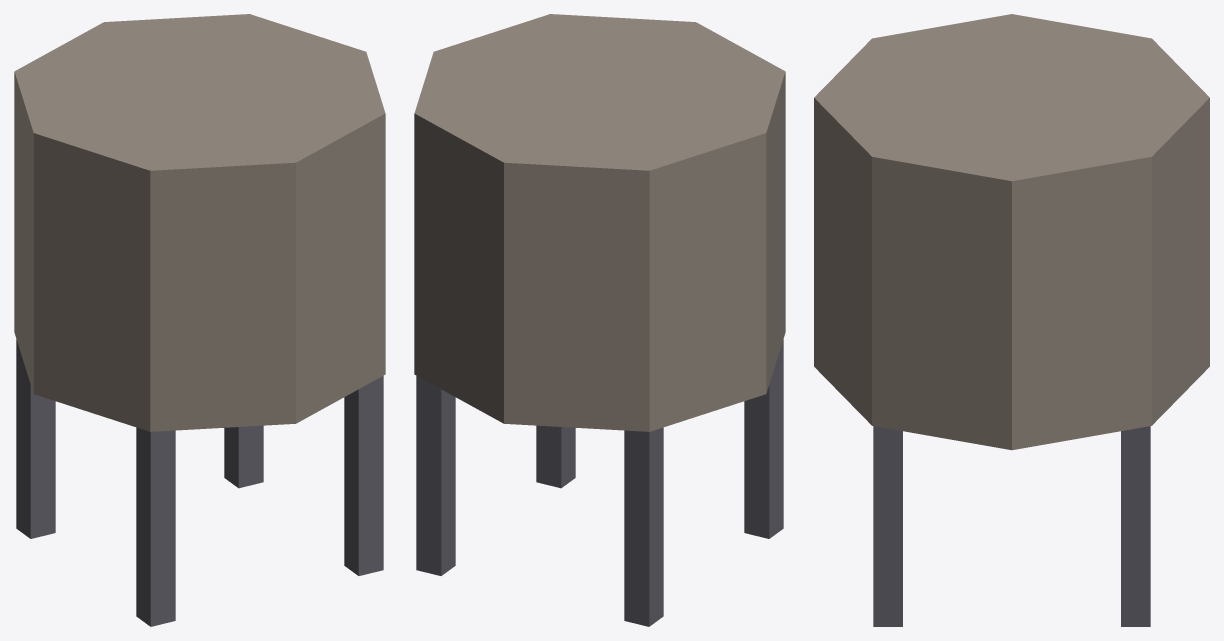
Rendered from roof_water_tank.glb.
The picture shows the model from 3 angles, left to right: view 1: azimuth 30°, elevation 25°; view 2: azimuth 150°, elevation 25°; view 3: azimuth 270°, elevation 25°; orthographic projection. The views are drawn at different scales.
Visible parts, largest first — view 1: roof_water_tank; view 2: roof_water_tank; view 3: roof_water_tank.
Part boxes in pixels (bbox=[...]): roof_water_tank: bbox=[14, 14, 385, 626]; roof_water_tank: bbox=[414, 14, 785, 626]; roof_water_tank: bbox=[814, 14, 1209, 626].
Bounding box in the file's own units: 1.6 × 2.1 × 1.6.
